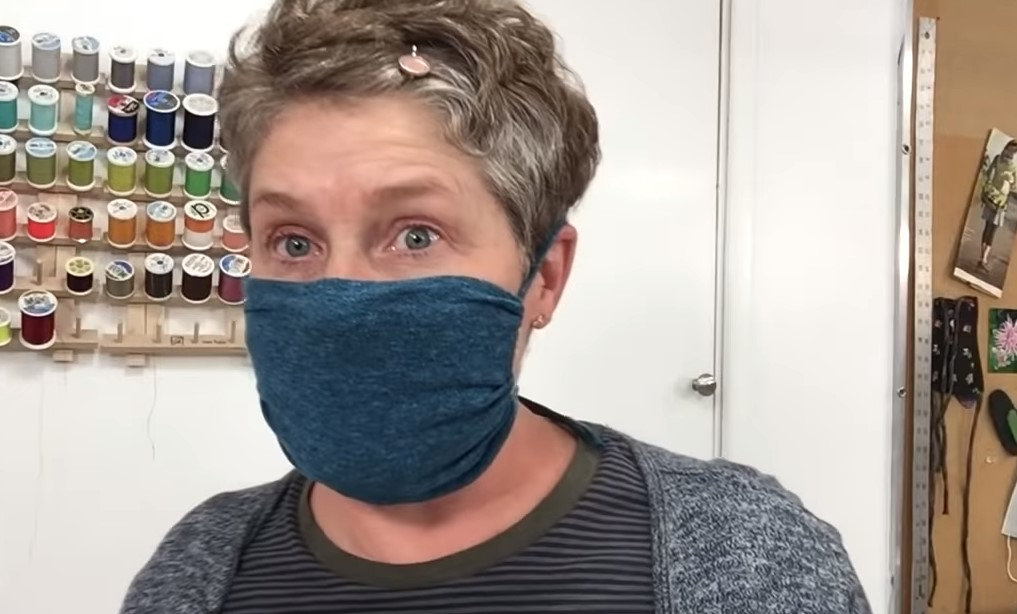face_with_mask: (212, 4, 584, 508)
